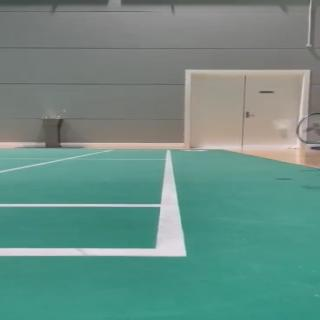Shuttle: (273, 119, 292, 139)
